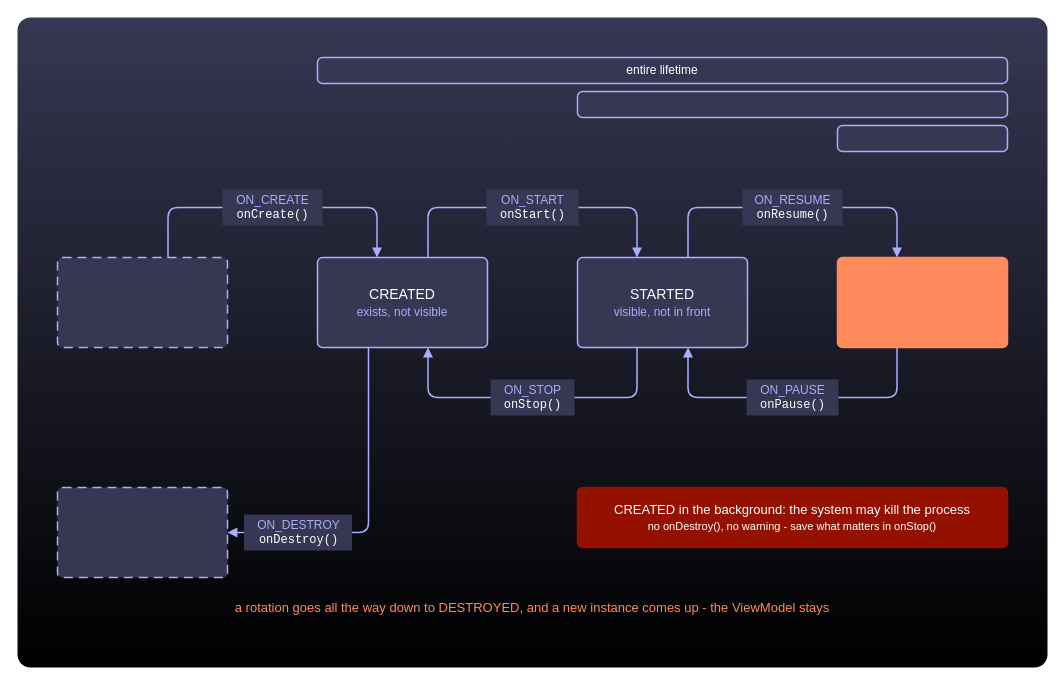
Image size: 1064x684. Some labels were removed from this diagram. Each missing label, with the centre of its shape:
"DESTROYED gone" belongs at [142,532].
"in front" belongs at [922,138].
"INITIALIZED constructed" belongs at [142,302].
"RESUMED in front, gets input" belongs at [922,302].
"visible" belongs at [792,104].
